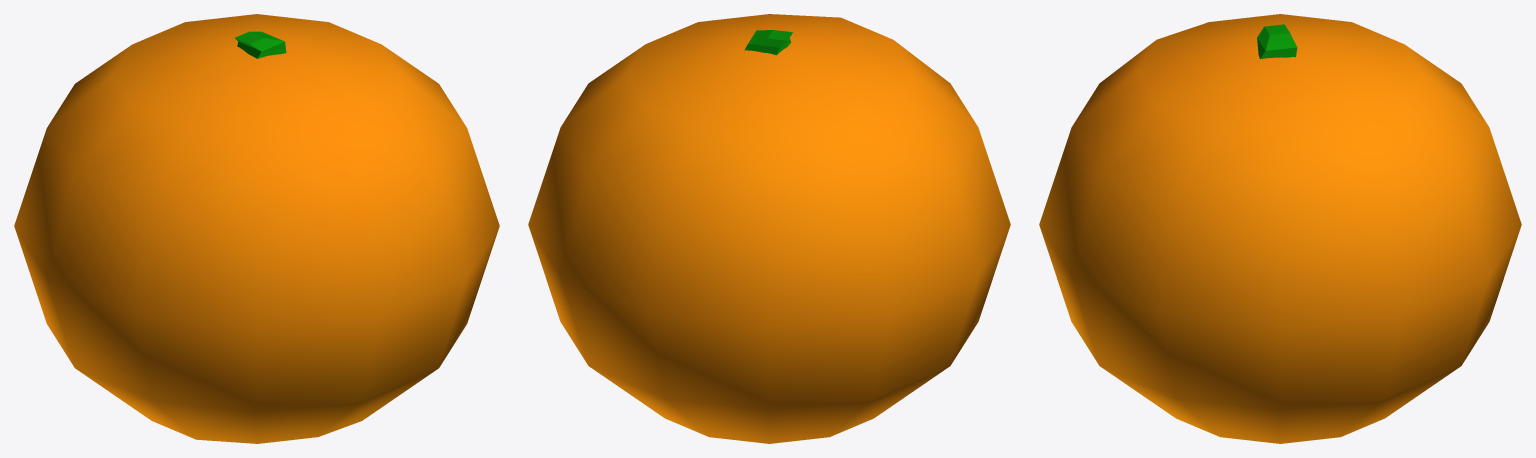
File: Orange.fbx
3 renders of one model, left to right at view 1: azimuth 30°, elevation 25°; view 2: azimuth 150°, elevation 25°; view 3: azimuth 270°, elevation 25°, orthographic.
Visible parts, largest first — view 1: Orange; view 2: Orange; view 3: Orange.
Boxes of the visible parts, box(x1,y1,x2,y2) form: Orange: box(14, 14, 499, 443); Orange: box(528, 14, 1010, 443); Orange: box(1039, 14, 1521, 443).
Bounding box in the file's own units: 422 × 354 × 422.
